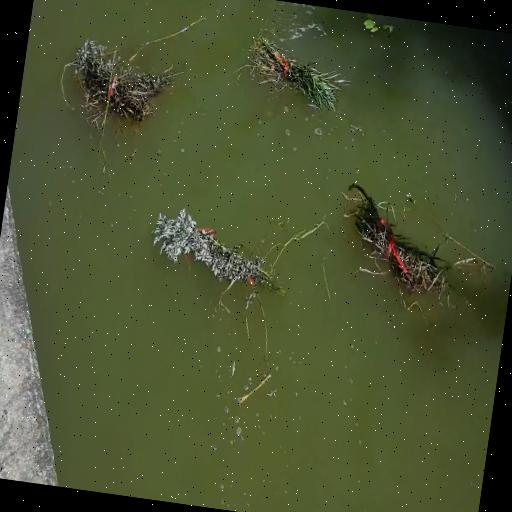twig: (350, 196, 456, 308), (152, 214, 288, 294), (72, 36, 166, 134), (242, 41, 348, 110), (357, 12, 399, 45)
